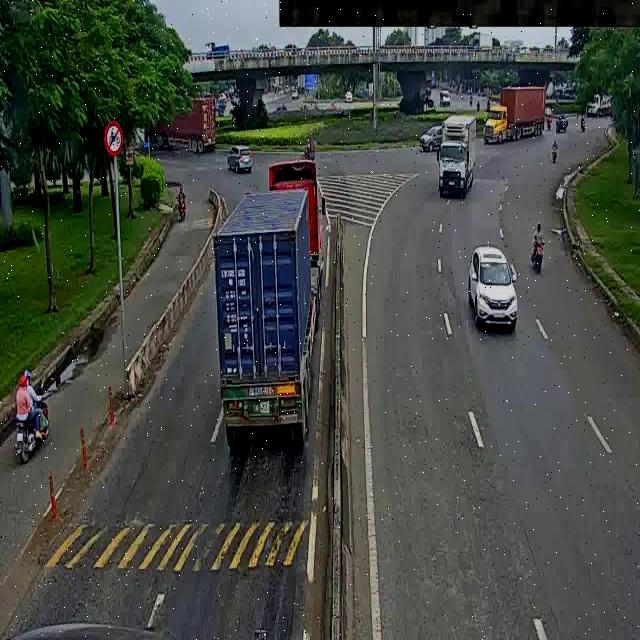car: (418, 108, 481, 194), (460, 250, 516, 335), (468, 120, 500, 175), (226, 144, 264, 184), (422, 125, 453, 156)
motorbike: (9, 373, 67, 473), (529, 218, 549, 277), (297, 134, 323, 163), (548, 130, 565, 170), (576, 117, 593, 139)
truck: (214, 161, 338, 461), (146, 91, 227, 162), (480, 82, 553, 141)
